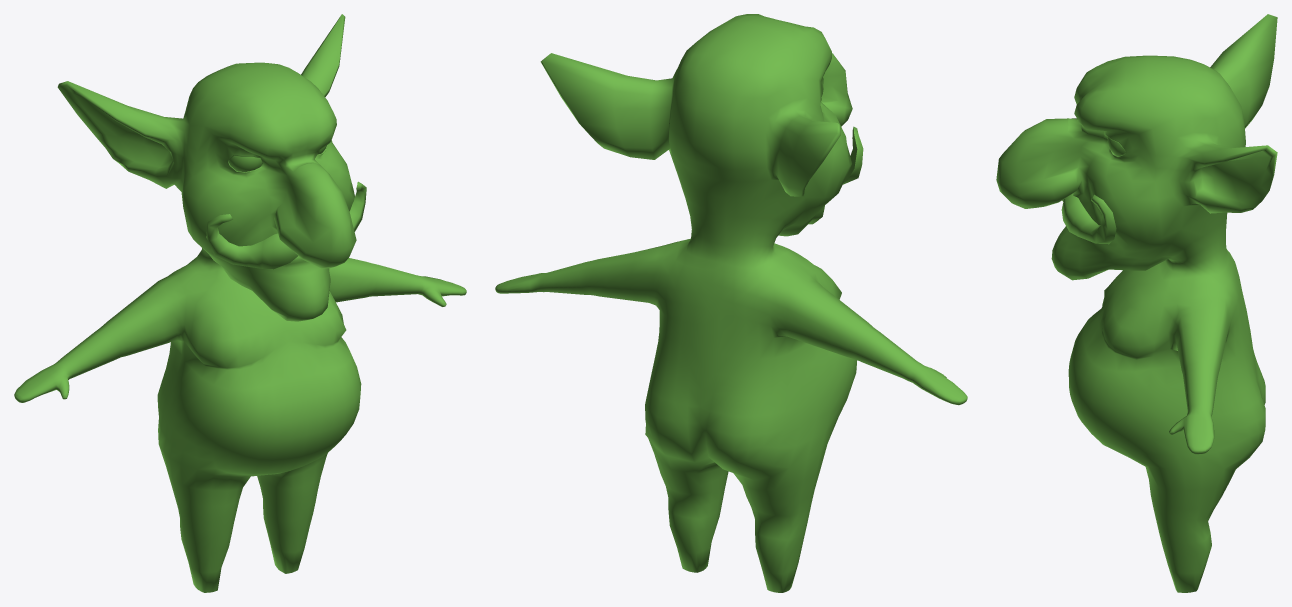
The model's file is goblinChef-noRig-4.fbx.
3 renders of one model, left to right at view 1: azimuth 30°, elevation 25°; view 2: azimuth 150°, elevation 25°; view 3: azimuth 270°, elevation 25°, orthographic. The views are drawn at different scales.
Parts seen in each view (by area): view 1: goblin-naked; view 2: goblin-naked; view 3: goblin-naked.
Boxes of the visible parts, x1=… form: goblin-naked: x1=14, y1=14, x2=466, y2=592; goblin-naked: x1=495, y1=14, x2=967, y2=592; goblin-naked: x1=996, y1=14, x2=1277, y2=592.
Size of the model in its own units: 113 by 124 by 62.5.
